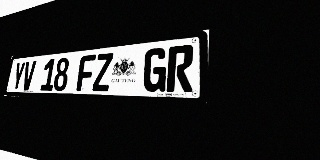1: (40, 58, 57, 91)
8: (53, 57, 70, 91)
F: (76, 54, 96, 91)
G: (142, 47, 168, 92)
R: (166, 44, 194, 92)
V: (21, 61, 36, 91)
Y: (11, 62, 26, 90)
Z: (92, 53, 113, 91)
